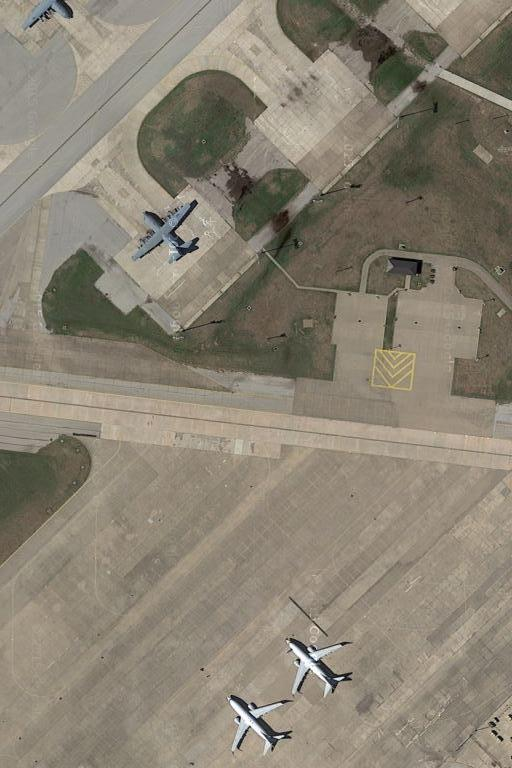C-130: (126, 195, 208, 269)
P-8A: (280, 637, 356, 699), (227, 691, 297, 758)
